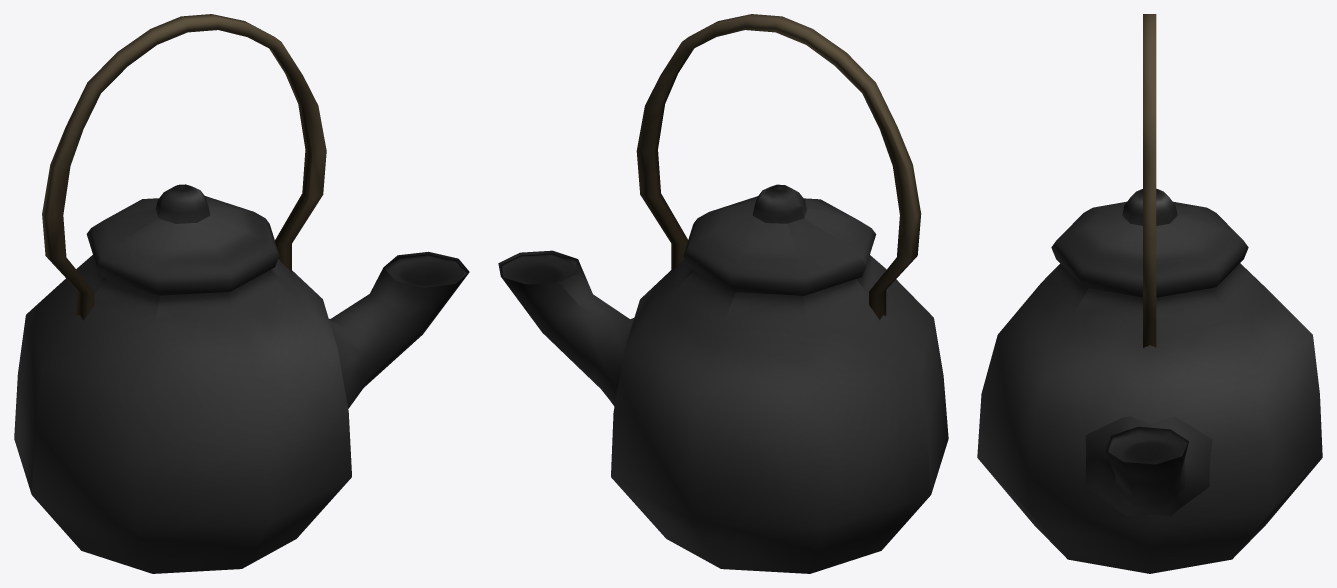
Rendered from teapot.gltf.
3 renders of one model, left to right at view 1: azimuth 30°, elevation 25°; view 2: azimuth 150°, elevation 25°; view 3: azimuth 270°, elevation 25°, orthographic.
Visible parts, largest first — view 1: Object_5; view 2: Object_5; view 3: Object_5.
Boxes of the visible parts, x1,y1,x2,y2 form: Object_5: [14, 14, 469, 573]; Object_5: [498, 14, 948, 573]; Object_5: [977, 14, 1322, 573].
Bounding box in the file's own units: 42.47 × 48.55 × 29.93.
Materials: 1 (1 with a texture image).
